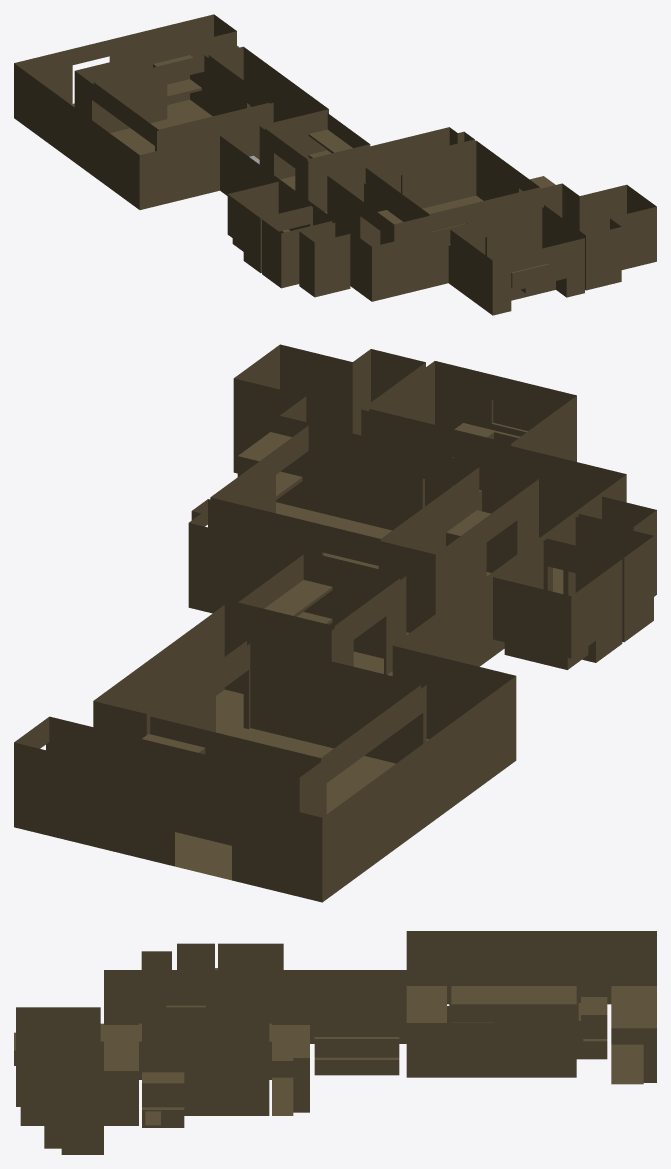
The model's file is house_01.fbx.
3 views of the same model, one above another, from view 1: azimuth 30°, elevation 25°; view 2: azimuth 150°, elevation 25°; view 3: azimuth 270°, elevation 25° (orthographic). The views are drawn at different scales.
Visible parts, largest first — view 1: pPlane100; view 2: pPlane100; view 3: pPlane100.
Part boxes in pixels (x1,y1,x2,y2): pPlane100: (14, 14, 656, 315); pPlane100: (14, 344, 656, 902); pPlane100: (14, 931, 656, 1154).
Bounding box in the file's own units: 1817 × 337 × 3032.
